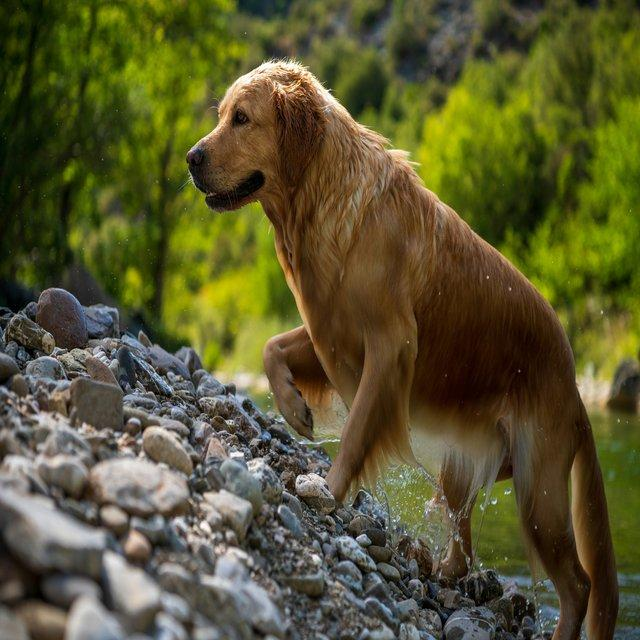retriever: (183, 57, 620, 638)
